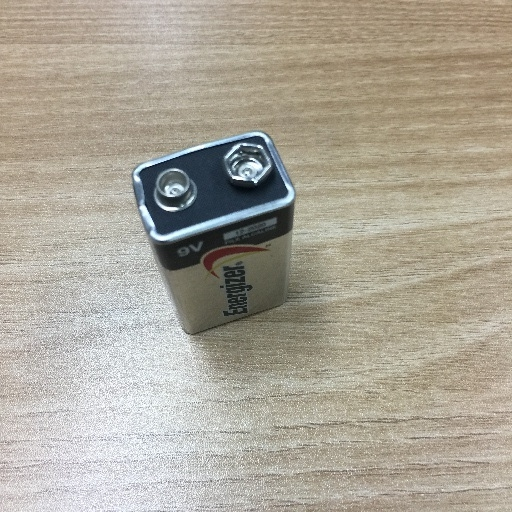Battery_3: (115, 116, 326, 353)
